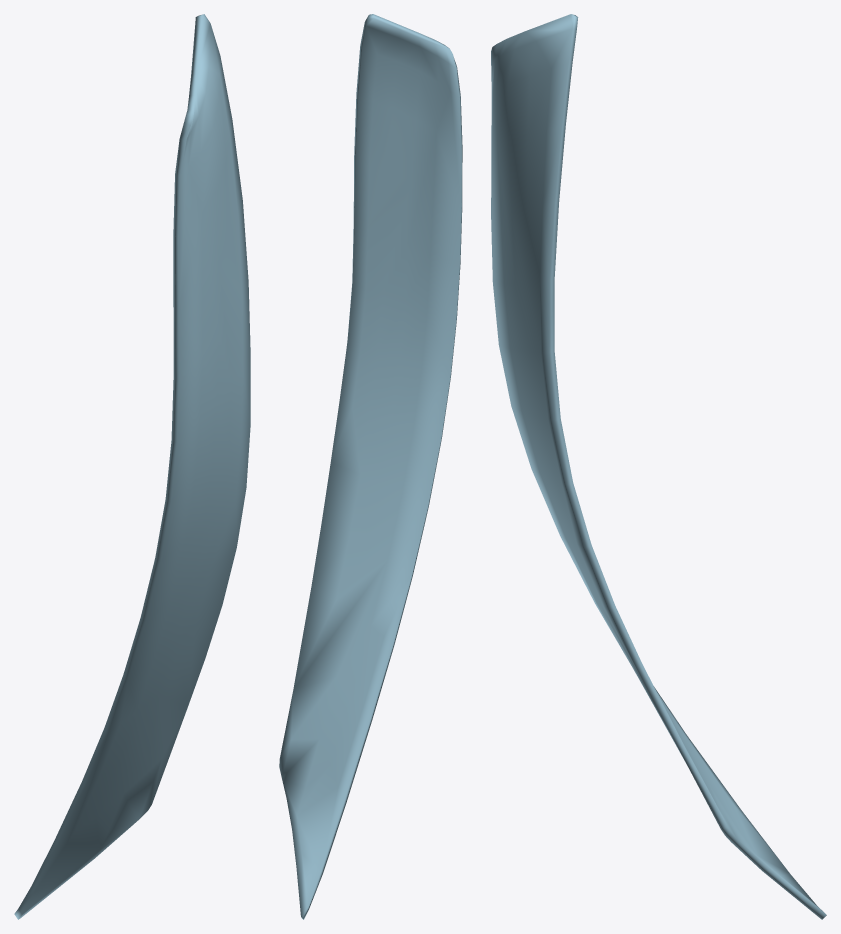
Rendered from articulacoes-descending-part-of-iliofemoral-ligament-l.glb.
The picture shows the model from 3 angles, left to right: view 1: azimuth 30°, elevation 25°; view 2: azimuth 150°, elevation 25°; view 3: azimuth 270°, elevation 25°; orthographic projection. The views are drawn at different scales.
Parts seen in each view (by area): view 1: Descending part of iliofemoral ligament.l; view 2: Descending part of iliofemoral ligament.l; view 3: Descending part of iliofemoral ligament.l.
Boxes of the visible parts, x1=… form: Descending part of iliofemoral ligament.l: x1=14, y1=14, x2=250, y2=919; Descending part of iliofemoral ligament.l: x1=279, y1=14, x2=462, y2=919; Descending part of iliofemoral ligament.l: x1=491, y1=14, x2=826, y2=919.
Size of the model in its own units: 0.00875 by 0.0751 by 0.0246.
